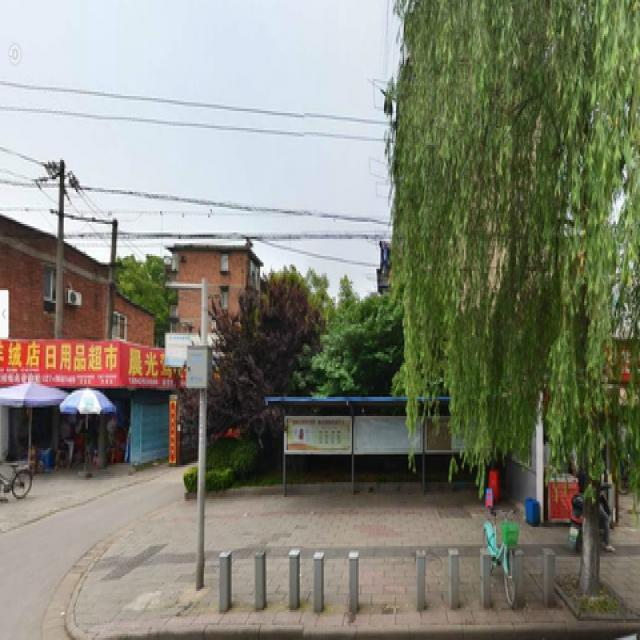plat: (400, 2, 636, 597)
